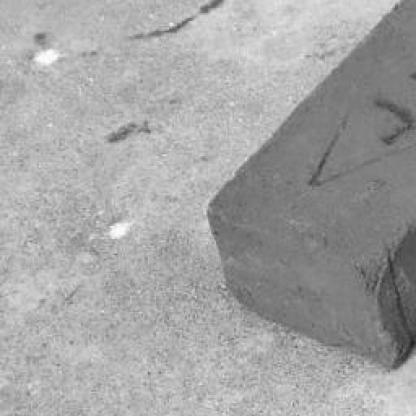brick: (200, 1, 414, 368)
